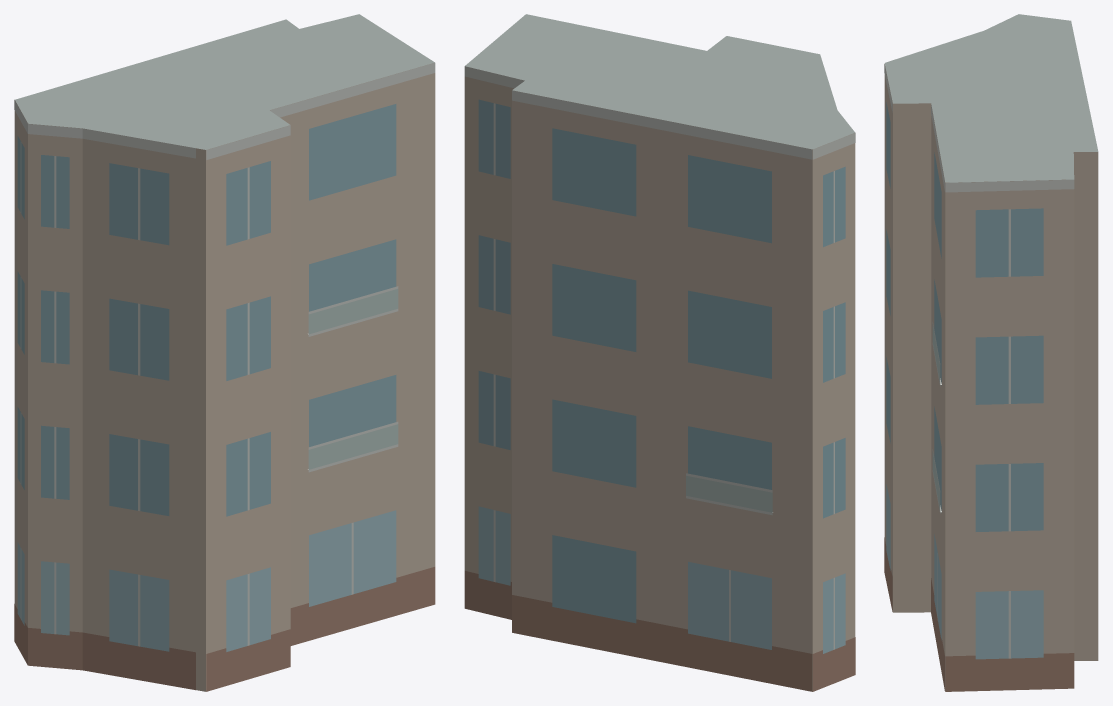
Rendered from survey-upis-32943539.glb.
The picture shows the model from 3 angles, left to right: view 1: azimuth 30°, elevation 25°; view 2: azimuth 150°, elevation 25°; view 3: azimuth 270°, elevation 25°; orthographic projection. The views are drawn at different scales.
Visible parts, largest first — view 1: survey-upis-32943539.tmp; view 2: survey-upis-32943539.tmp; view 3: survey-upis-32943539.tmp.
Boxes of the visible parts, x1,y1,x2,y2 form: survey-upis-32943539.tmp: (14,14,435,691); survey-upis-32943539.tmp: (464,14,855,691); survey-upis-32943539.tmp: (884,14,1098,691).
Size of the model in its own units: 9.11 by 12.8 by 4.89.
